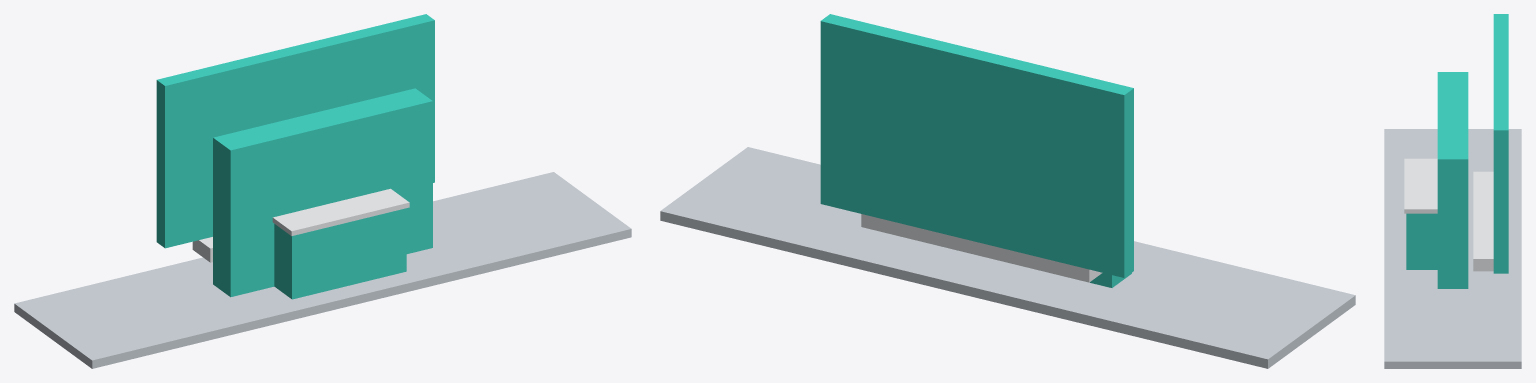
3 views of the same model, side by side, from view 1: azimuth 30°, elevation 25°; view 2: azimuth 150°, elevation 25°; view 3: azimuth 270°, elevation 25° (orthographic). The views are drawn at different scales.
Parts seen in each view (by area): view 1: Exhibition Booth Concept; view 2: Exhibition Booth Concept; view 3: Exhibition Booth Concept.
Boxes of the visible parts, x1=… form: Exhibition Booth Concept: x1=14, y1=14, x2=631, y2=368; Exhibition Booth Concept: x1=660, y1=14, x2=1355, y2=368; Exhibition Booth Concept: x1=1384, y1=14, x2=1521, y2=368.
Size of the model in its own units: 8 by 2.9 by 2.
